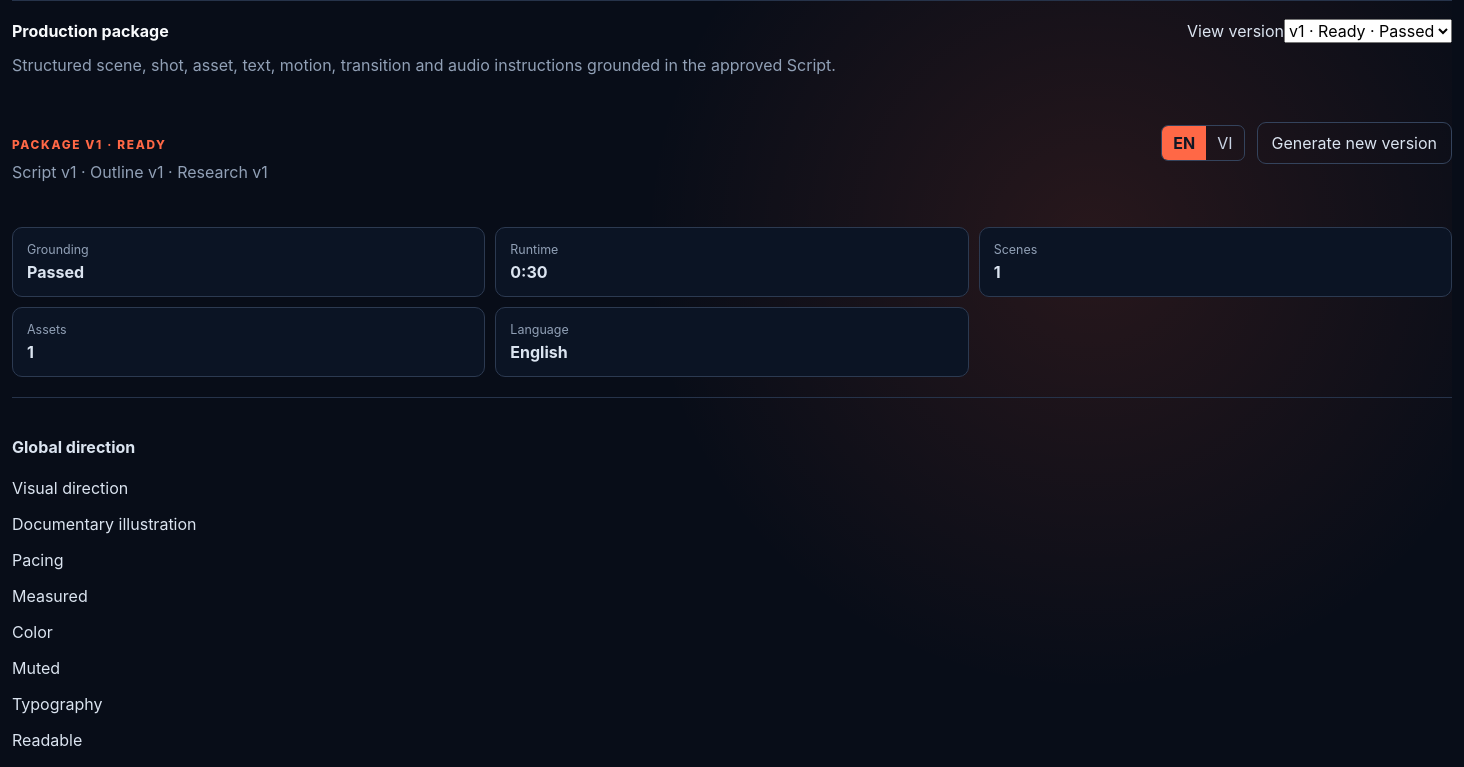
Test case: Vietnamese reading aid changes only localizable explanations
The width and height of the screenshot is (1464, 767).
Step 1. Click the button "VI" → (1225, 143), box [1206,126,1244,160]
(page scrolled)
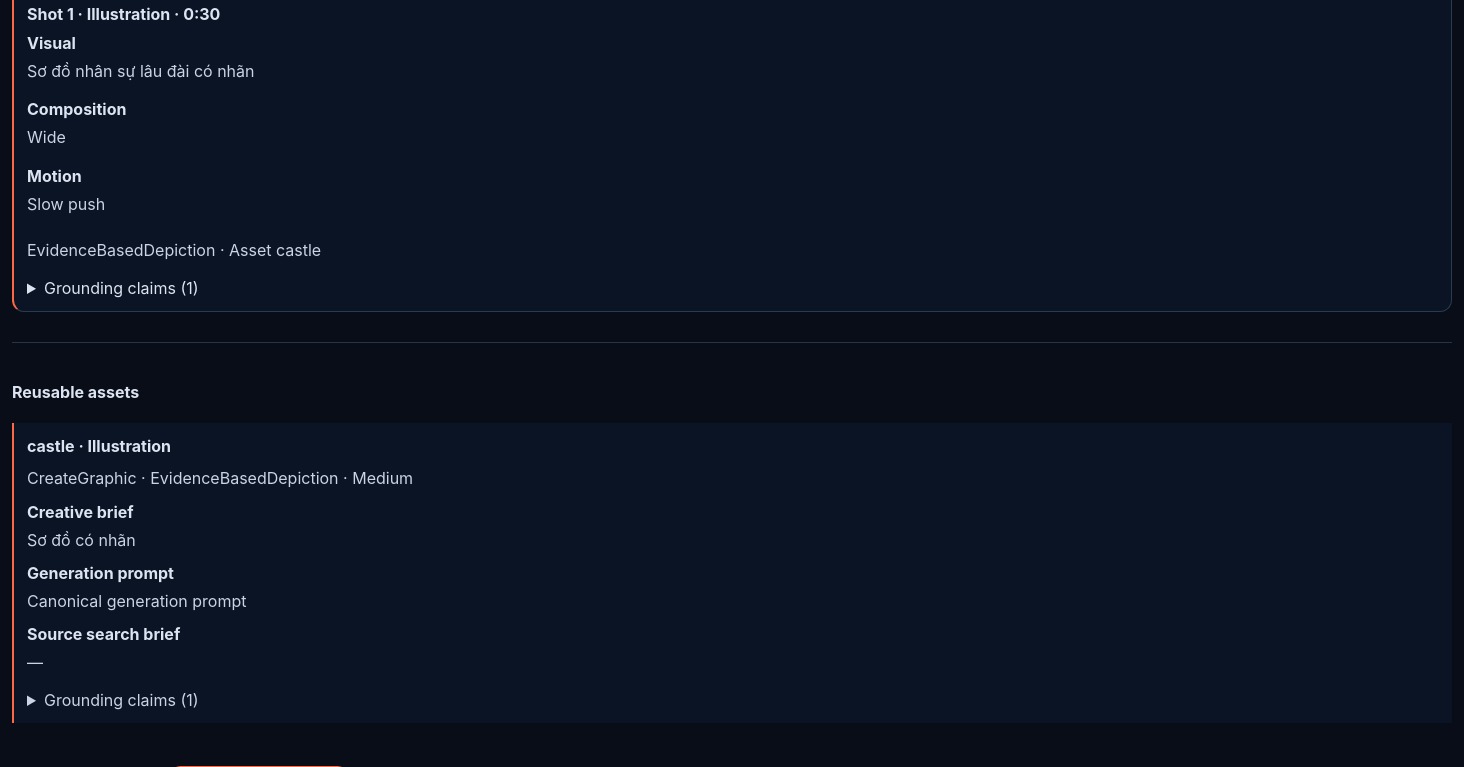
Expected: the text "Canonical generation prompt" is shown, [27,591,246,611]
Expected: the text "Sơ đồ nhân sự lâu đài có nhãn" is shown, [27,61,254,81]
